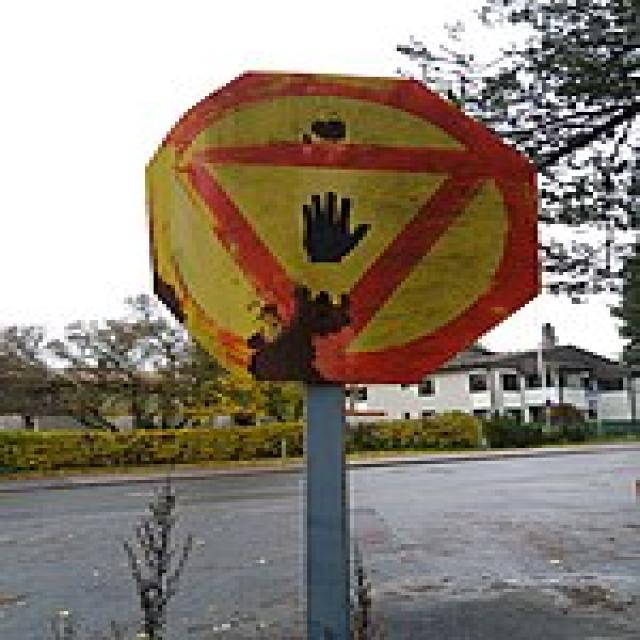Traffic sign: (140, 49, 544, 404)
